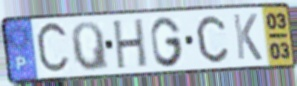C: (34, 18, 72, 78), (194, 14, 231, 65)
G: (149, 15, 185, 69)
H: (112, 16, 149, 72)
K: (231, 12, 264, 62)
Q: (69, 20, 111, 73)
